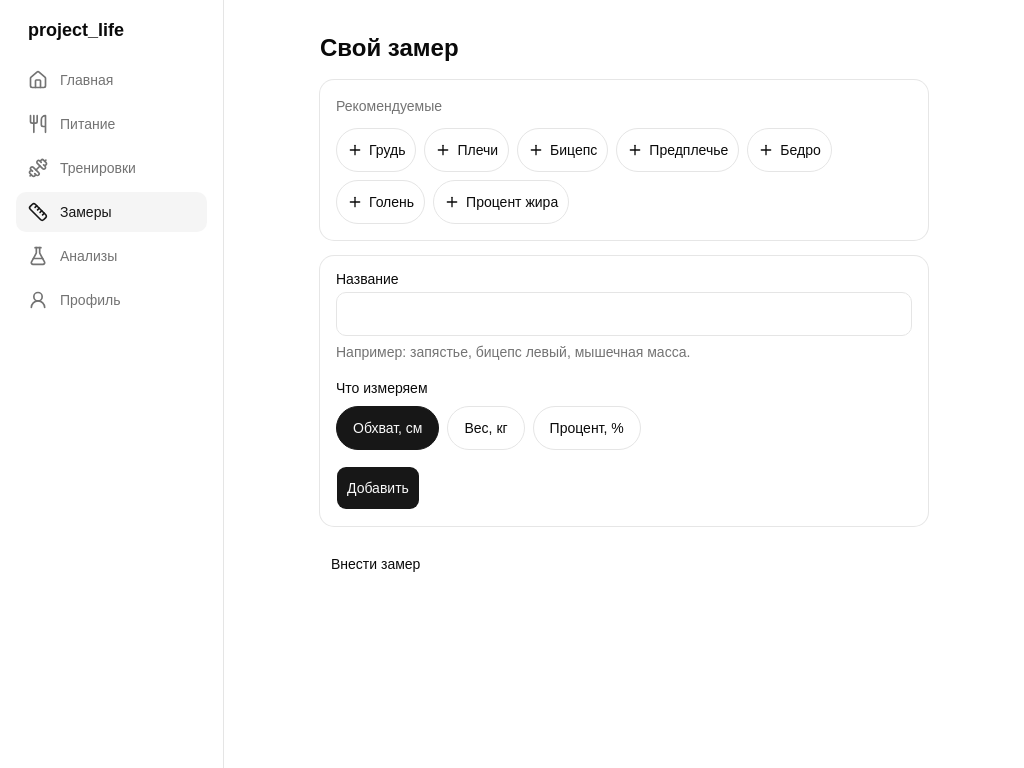
it: экран «+»: рекомендуемые замеры › показывает отказ сервера и не сообщает о добавлении
Step 1. Click the button with aria-label "Добавить: Грудь" → [376, 150], box [336,128,416,172]
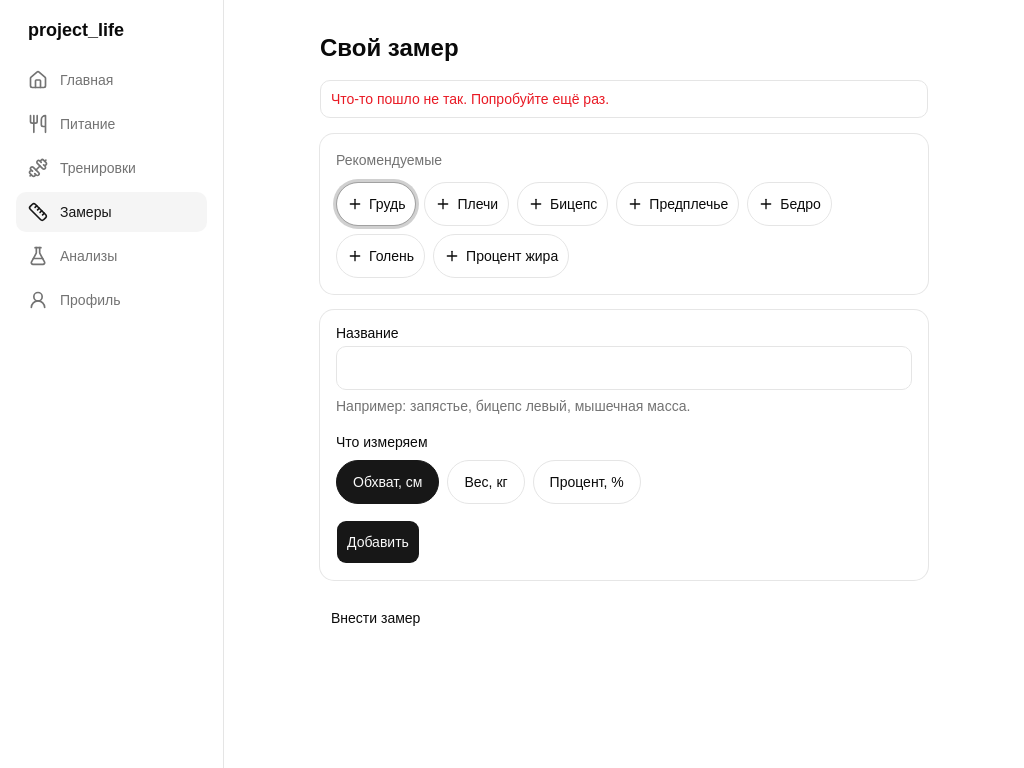
Now the message shows "Что-то пошло не так.", box [331,91,609,107]
